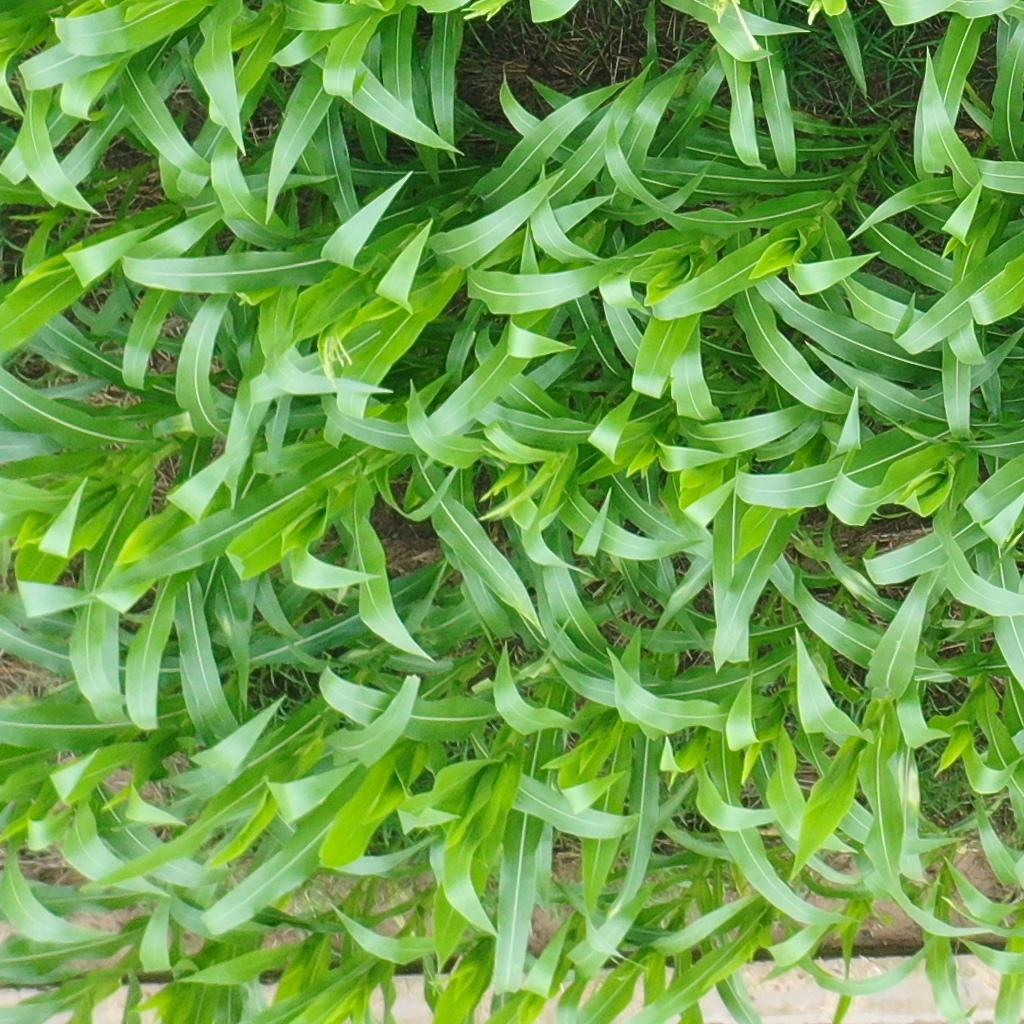Tassel: (714, 1, 773, 48), (310, 324, 356, 381), (451, 1, 512, 20), (804, 1, 825, 32)
